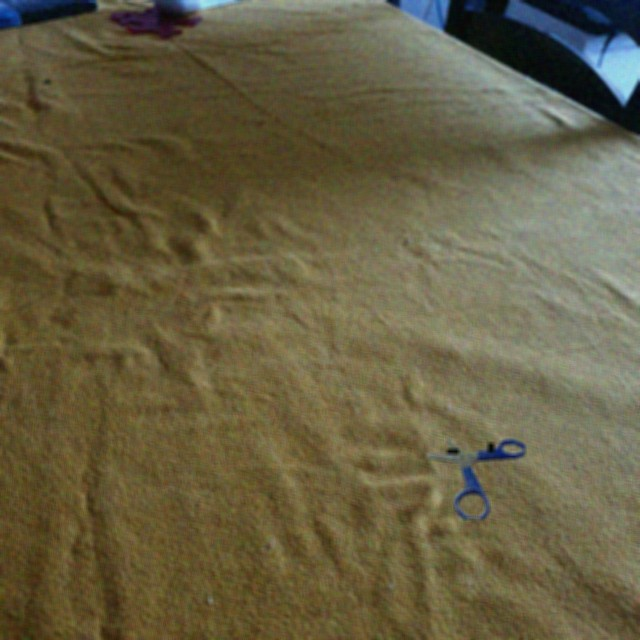scissors: (426, 437, 525, 519)
